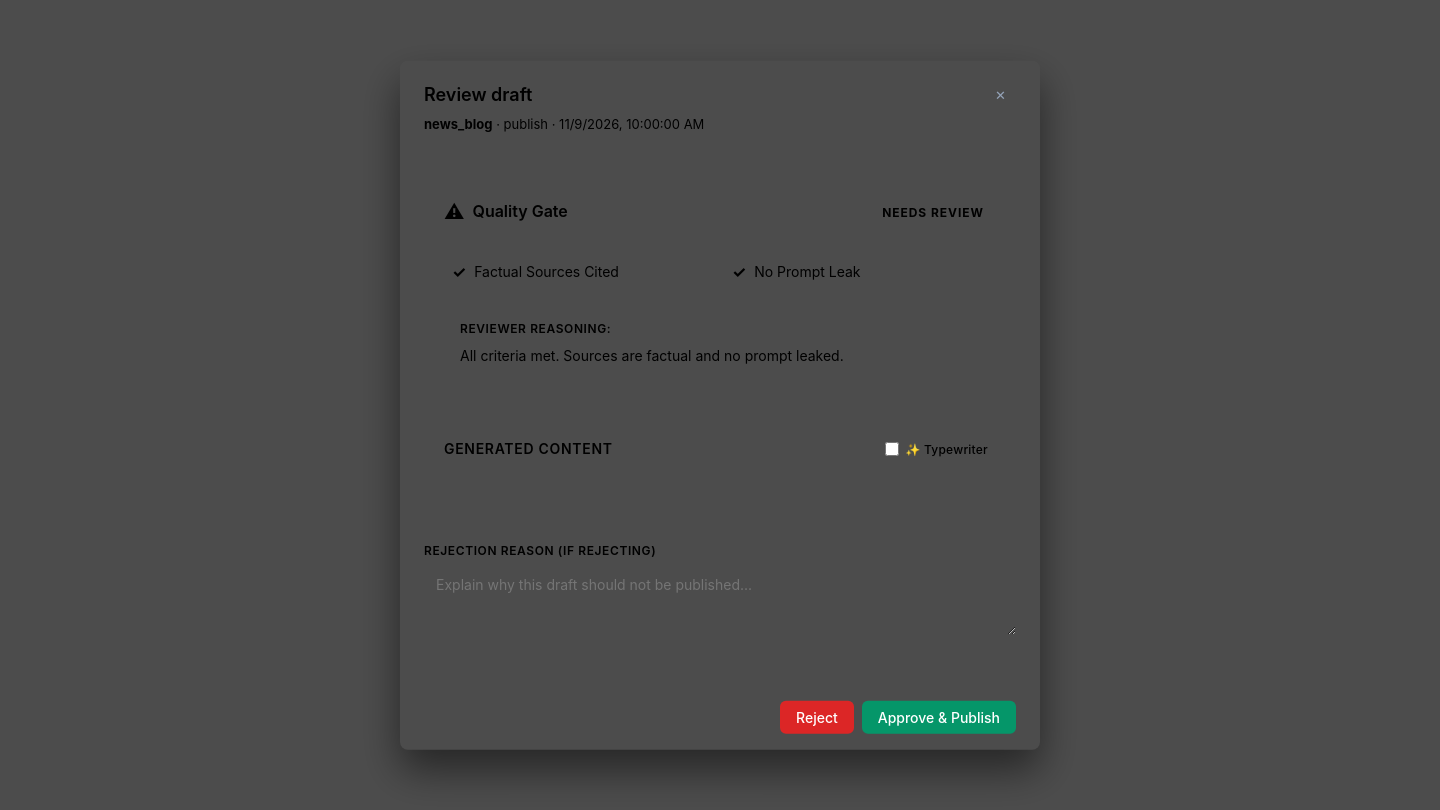
DraftReview › shows error when rejecting without reason
The width and height of the screenshot is (1440, 810).
What coordinates should you click on to do the following:
click the button "Reject"
I would click on:
 (817, 717)
Its box is [780, 700, 854, 733].
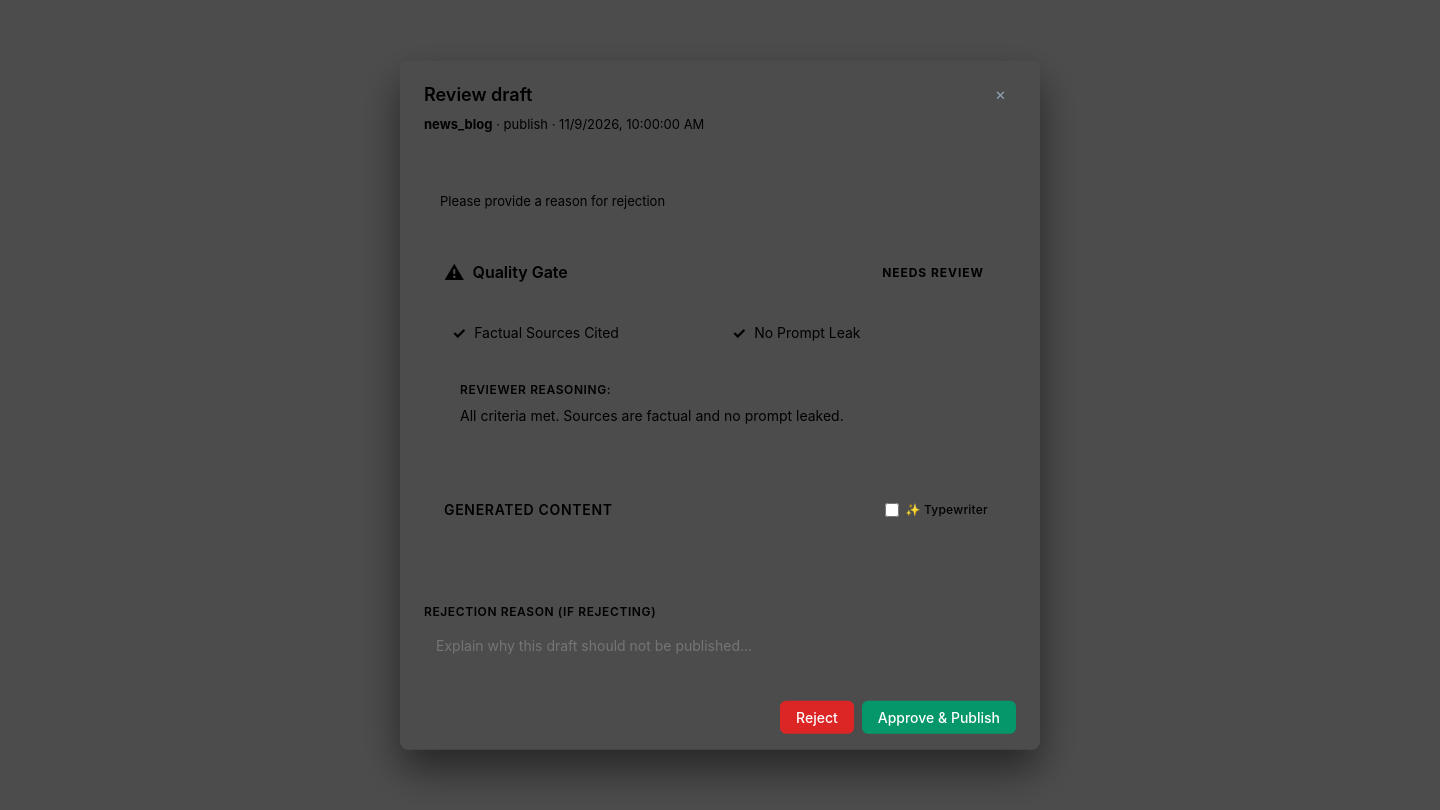
Result: the text "Please provide a reason for rejection" is shown at [440, 192, 665, 208]
